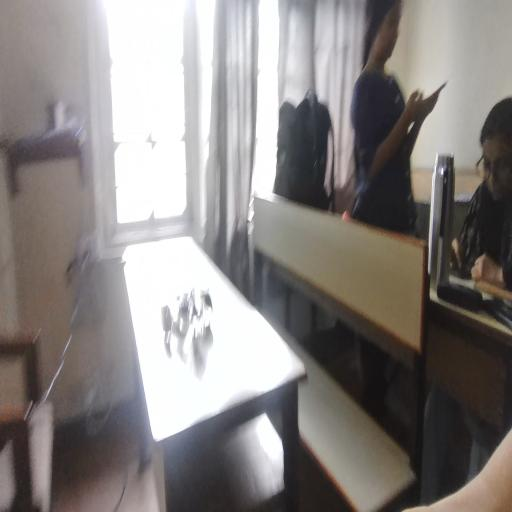car: (163, 274, 228, 357)
